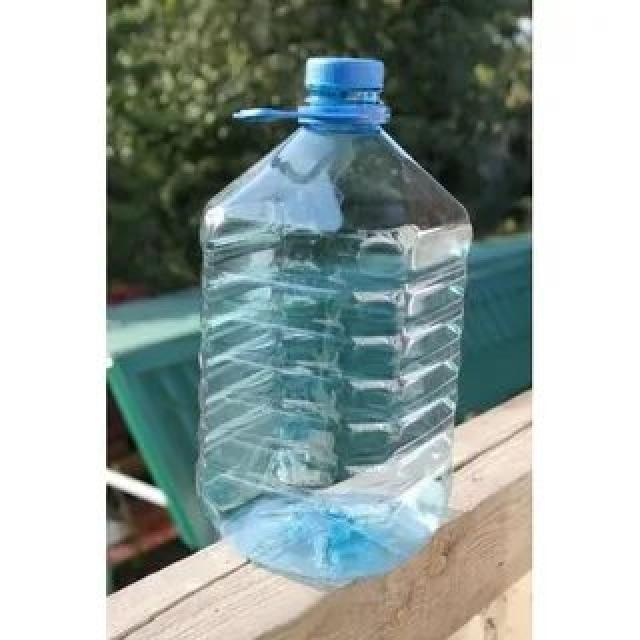blue: (200, 122, 470, 580)
